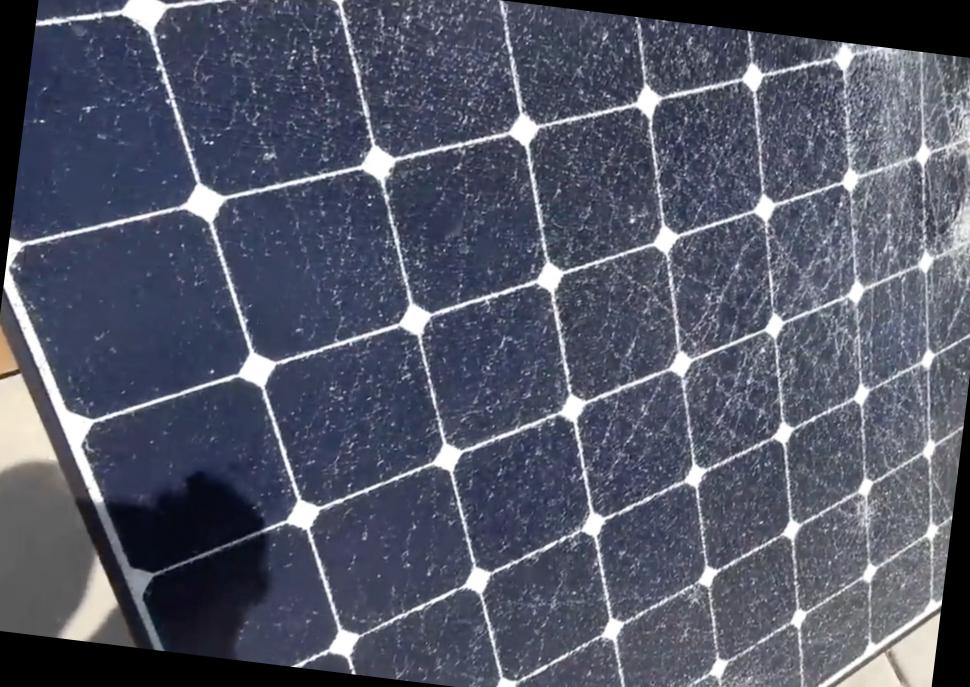Crack: (802, 45, 942, 170), (919, 54, 969, 313)
